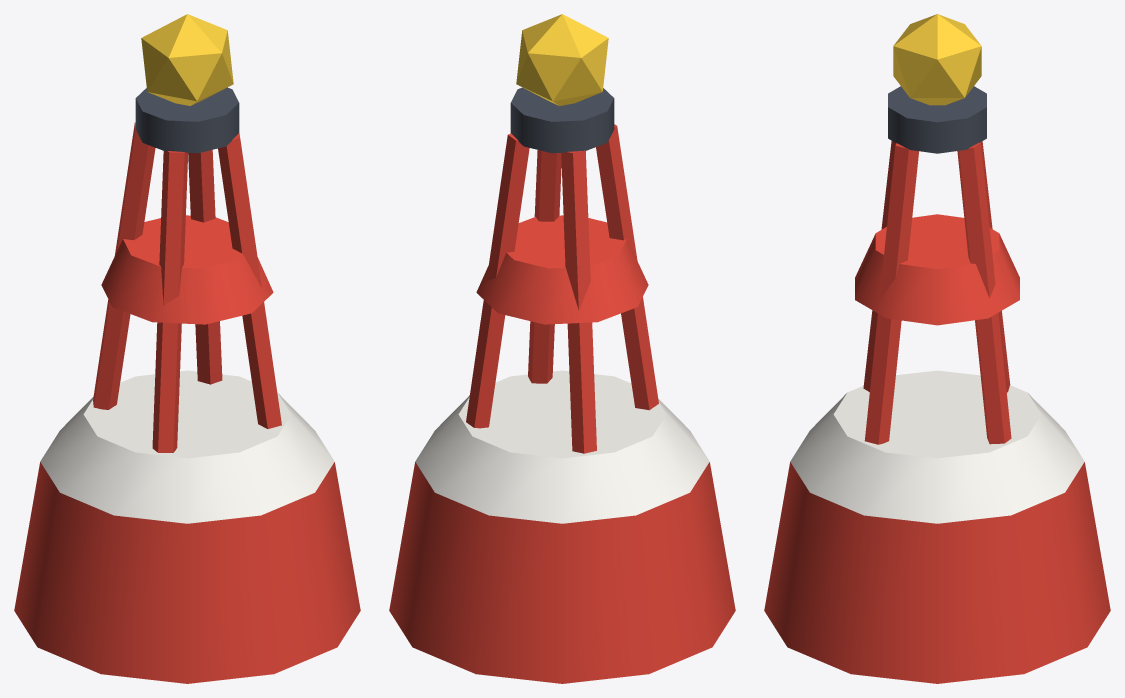
File: buoy_red.fbx
The picture shows the model from 3 angles, left to right: view 1: azimuth 30°, elevation 25°; view 2: azimuth 150°, elevation 25°; view 3: azimuth 270°, elevation 25°; orthographic projection.
Visible parts, largest first — view 1: buoy_red; view 2: buoy_red; view 3: buoy_red.
Part boxes in pixels (x1,y1,x2,y2): buoy_red: (14, 14, 360, 683); buoy_red: (389, 14, 735, 683); buoy_red: (764, 14, 1110, 683).
Bounding box in the file's own units: 0.4 × 0.76 × 0.4.
